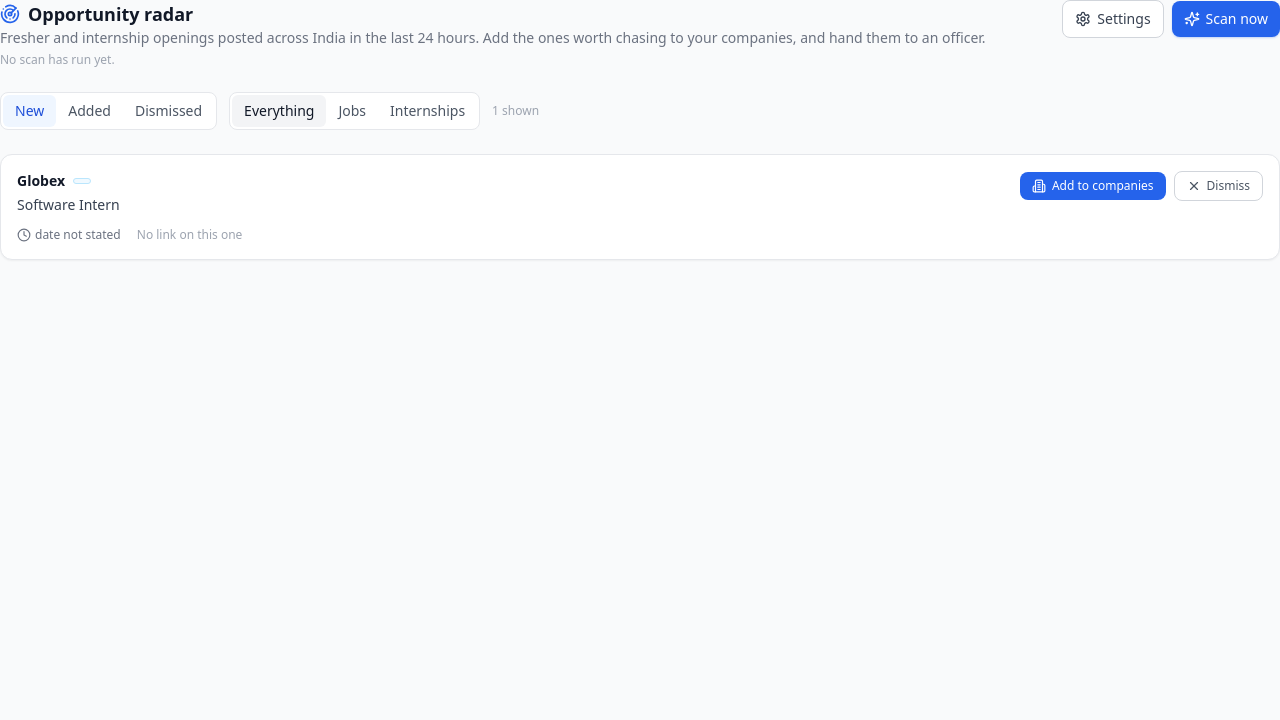
Test: dismissing an opening › asks first, and says a later scan will not bring it back
Expected: the heading "Globex" is shown, [17,171,65,191]
Click the button "Dismiss". click: click(1218, 186)
box: [1174,171,1263,201]
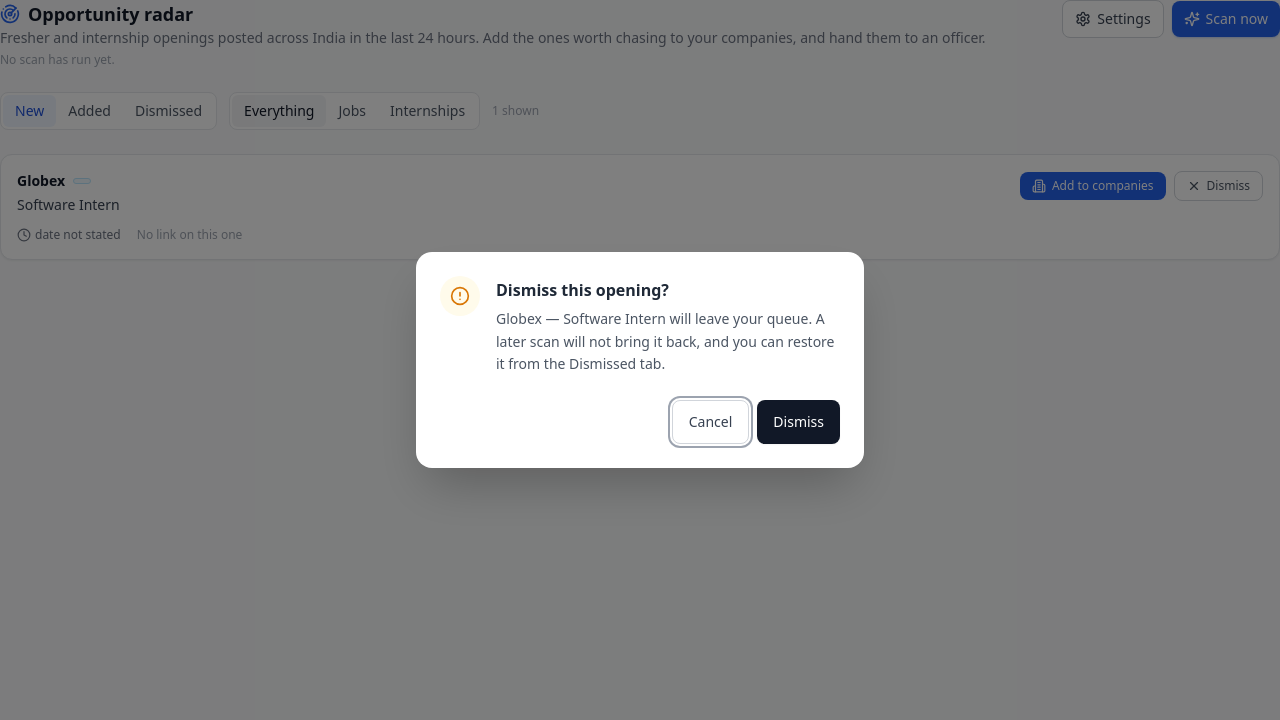
Now the heading "Dismiss this opening?" is shown, box [496,279,669,301]
Now the text "a later scan will not bring it back" is shown, box [496,309,834,373]
